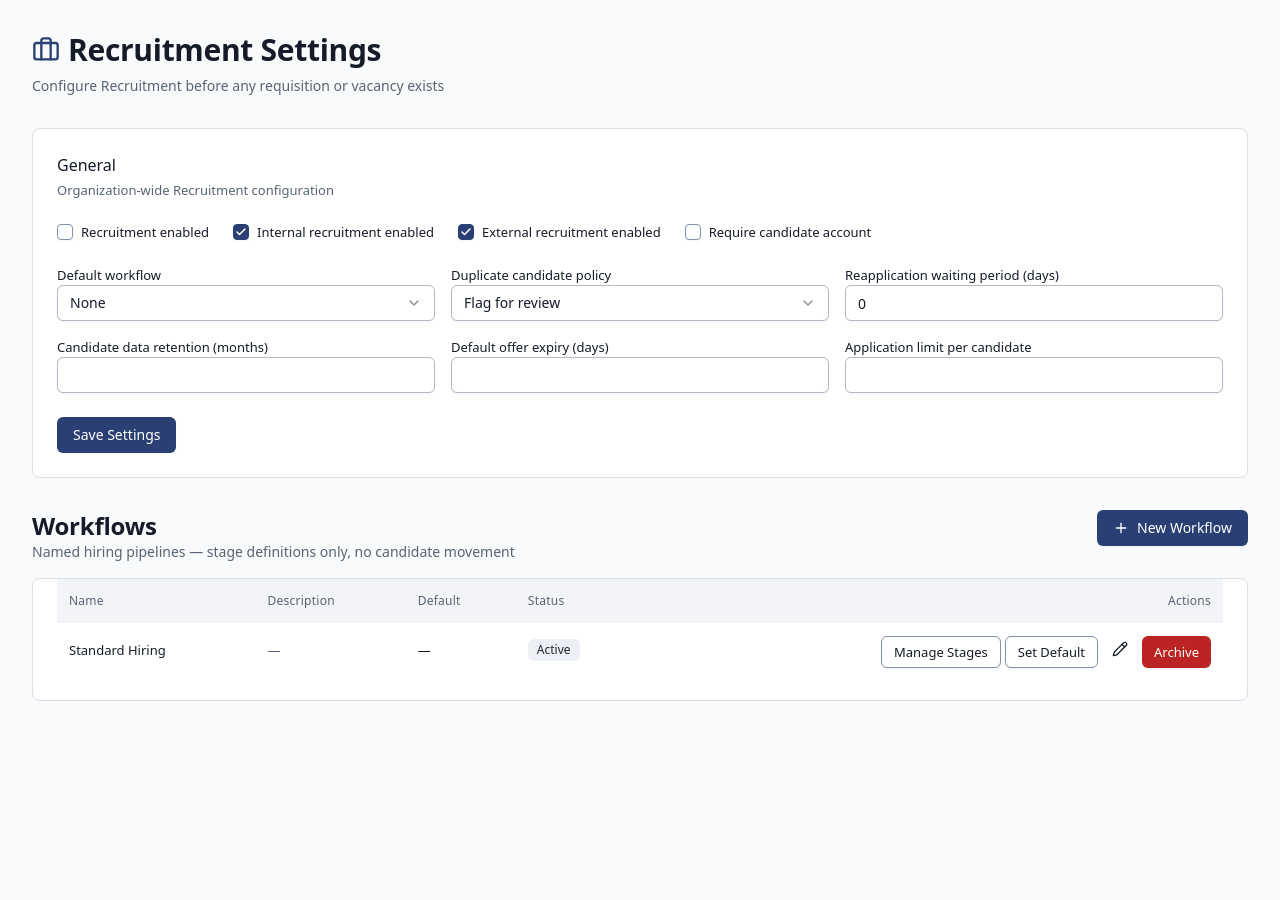
Test case: Recruitment Settings page › expands to show the Stages panel for a workflow
Click the button with test id "button-manage-stages-1" at (941, 652), box [881,636,1001,668]
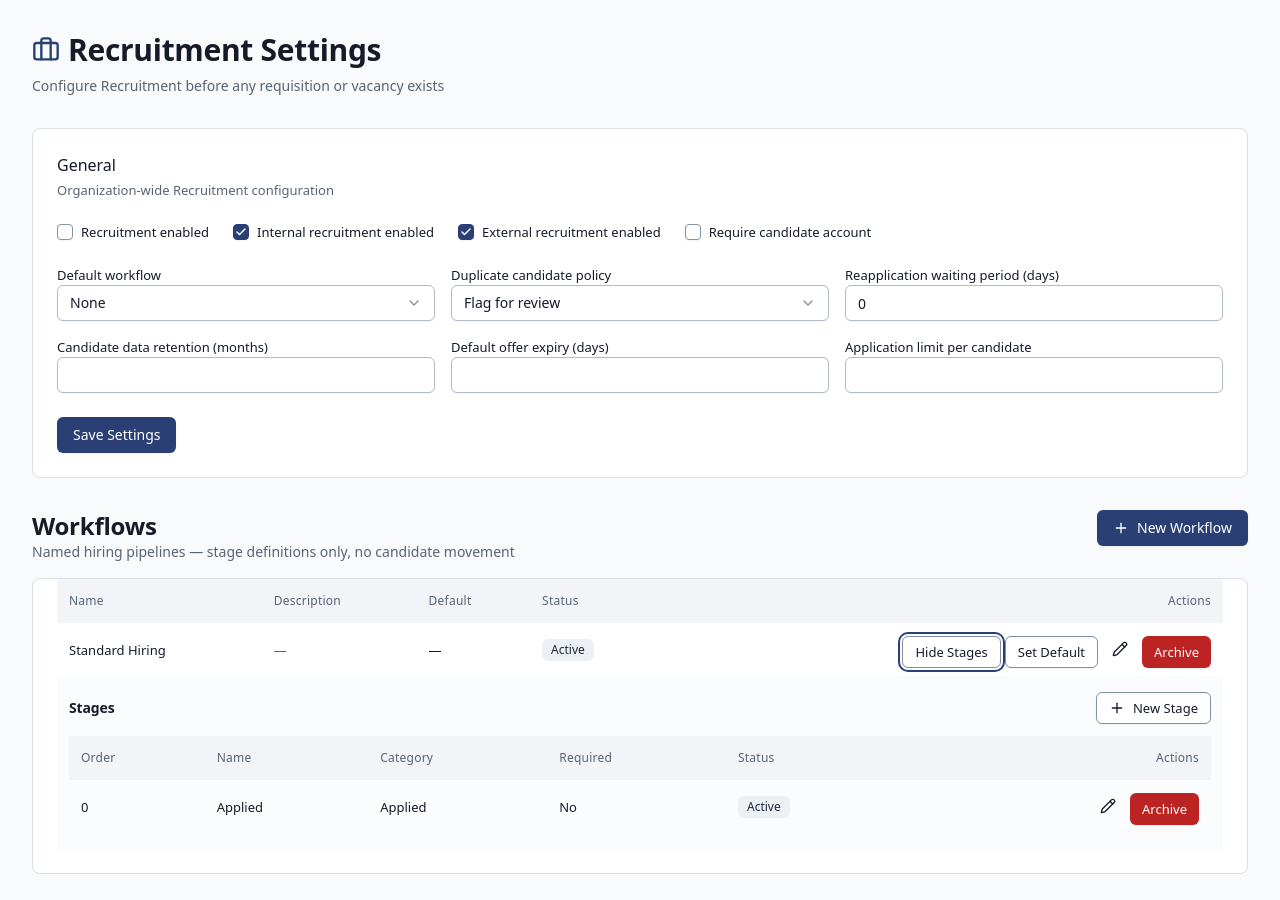
expect the row with test id "row-stage-1" shows "Applied": met, box [217,798,263,816]
